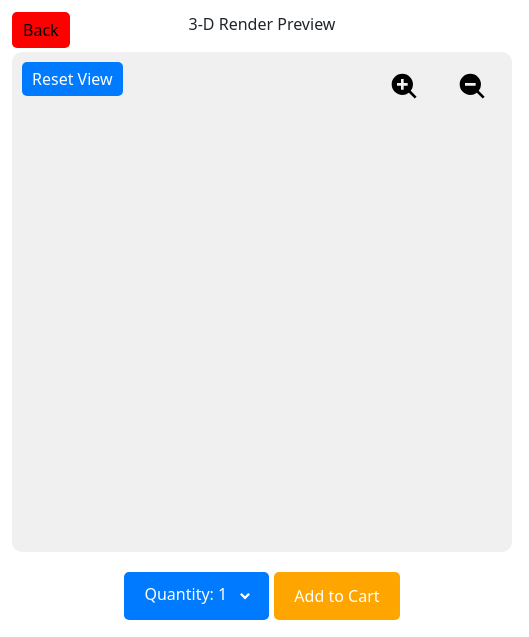
Test: PreviewTab › adds item to cart and disables Add to Cart button
The image size is (529, 637).
Click the button with test id "add-to-cart-button" at {"x": 337, "y": 596}, box [274, 572, 400, 620]
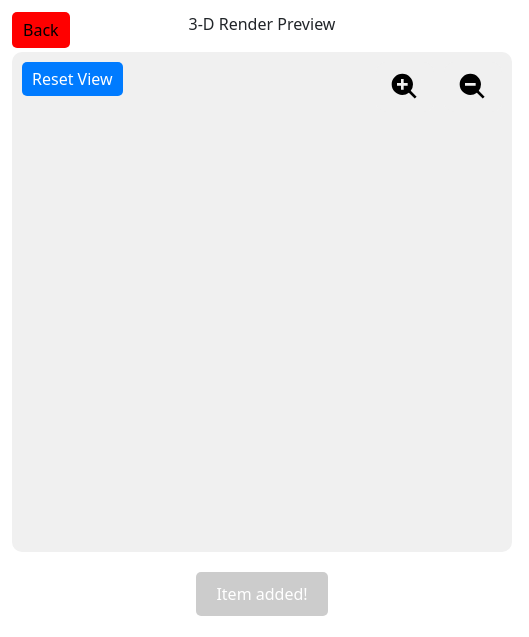
Expected: the button with test id "add-to-cart-button" is disabled, [196, 572, 328, 616]
Expected: the button with test id "add-to-cart-button" reads "Item added!", [196, 572, 328, 616]
